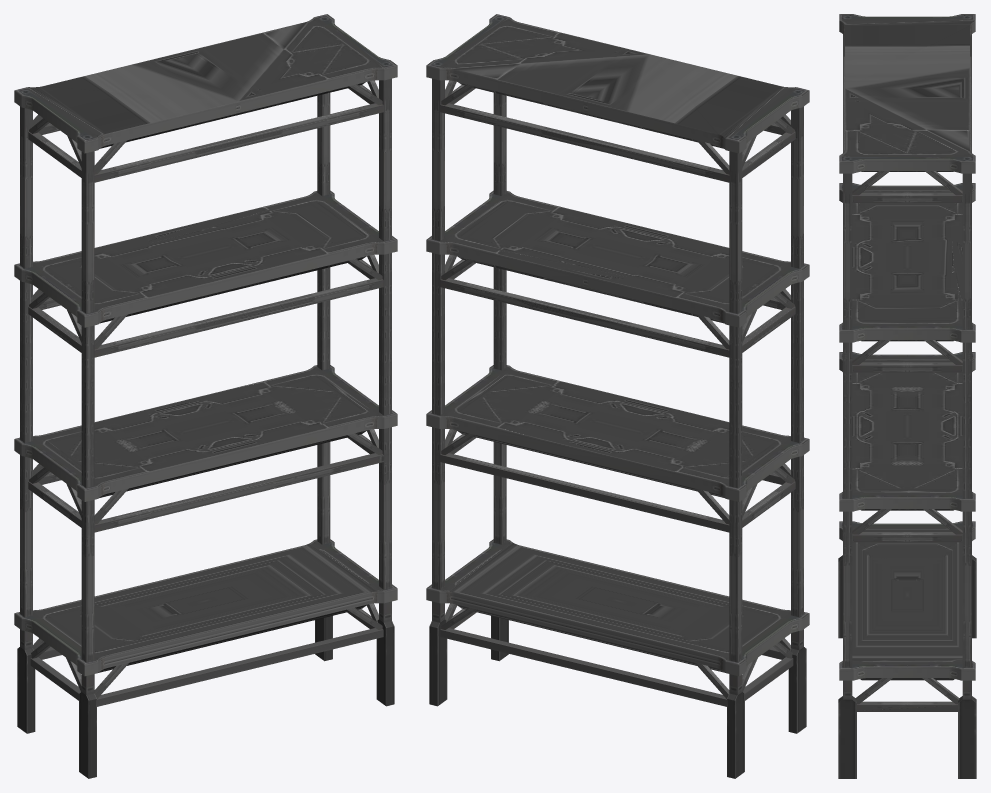
File: tool-rack.glb
3 views of the same model, side by side, from view 1: azimuth 30°, elevation 25°; view 2: azimuth 150°, elevation 25°; view 3: azimuth 270°, elevation 25° (orthographic). The views are drawn at different scales.
Parts seen in each view (by area): view 1: Prop_Shelves_ThinTall; view 2: Prop_Shelves_ThinTall; view 3: Prop_Shelves_ThinTall.
Part boxes in pixels (x1,y1,x2,y2): Prop_Shelves_ThinTall: [14, 14, 397, 778]; Prop_Shelves_ThinTall: [426, 14, 809, 778]; Prop_Shelves_ThinTall: [838, 14, 976, 778].
Bounding box in the file's own units: 1.37 × 2.67 × 0.5407.
1 material, 1 textured.
